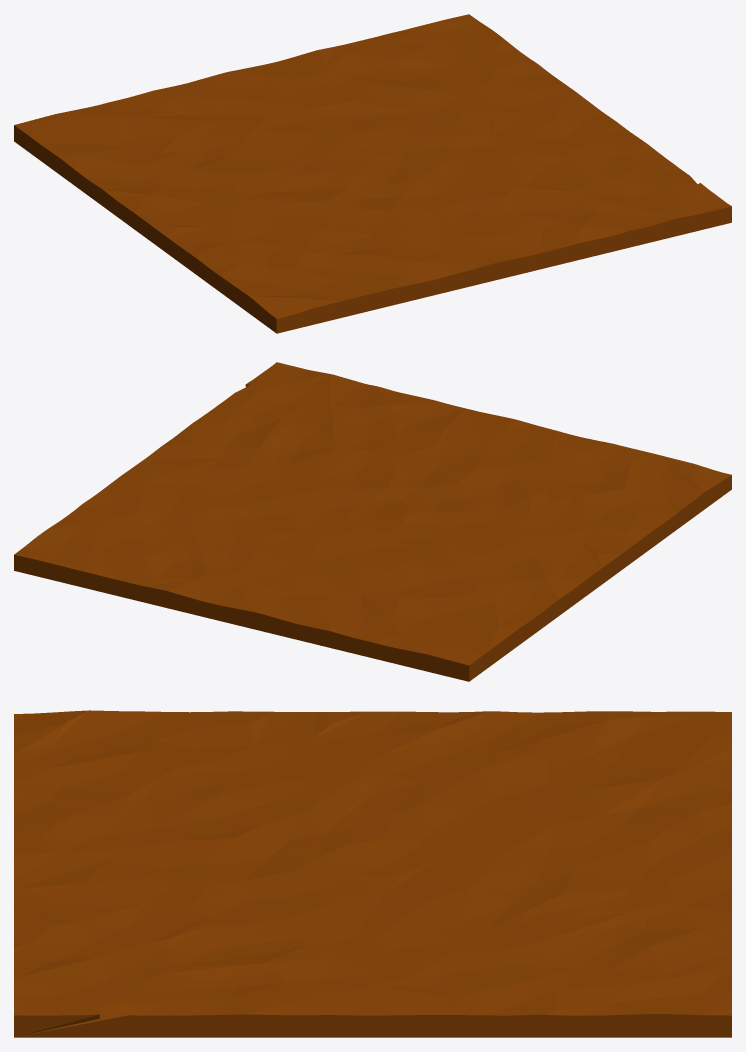
The model's file is Lava_sol_rescale_grand_v1.fbx.
3 renders of one model, top to bottom at view 1: azimuth 30°, elevation 25°; view 2: azimuth 150°, elevation 25°; view 3: azimuth 270°, elevation 25°, orthographic. The views are drawn at different scales.
Visible parts, largest first — view 1: pPlane1; view 2: pPlane1; view 3: pPlane1.
Part boxes in pixels (x1,y1,x2,y2): pPlane1: [14, 14, 731, 333]; pPlane1: [14, 362, 731, 681]; pPlane1: [14, 710, 731, 1037].
Size of the model in its own units: 100 by 3.76 by 100.
